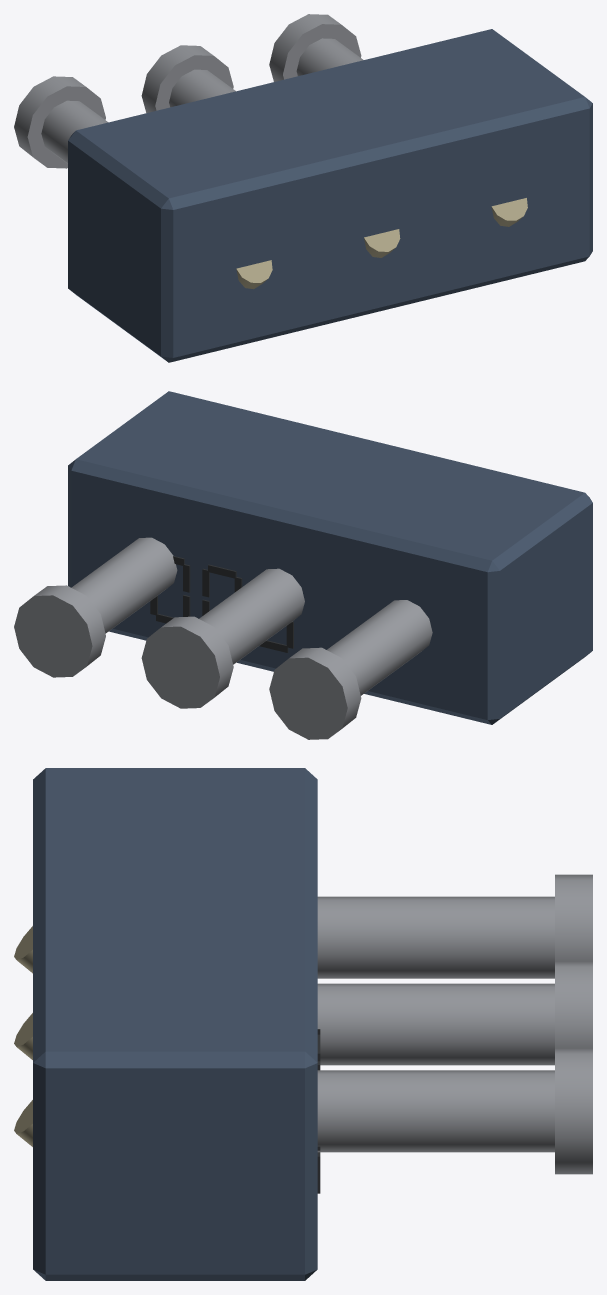
Rendered from kc1000_ports.obj.
3 views of the same model, one above another, from view 1: azimuth 30°, elevation 25°; view 2: azimuth 150°, elevation 25°; view 3: azimuth 270°, elevation 25° (orthographic). The views are drawn at different scales.
Parts seen in each view (by area): view 1: kc1000_ports; view 2: kc1000_ports; view 3: kc1000_ports.
Boxes of the visible parts, x1,y1,x2,y2 form: kc1000_ports: (14, 14, 592, 362); kc1000_ports: (14, 391, 592, 739); kc1000_ports: (14, 768, 592, 1280).
Bounding box in the file's own units: 2.2 × 0.8269 × 1.83.
